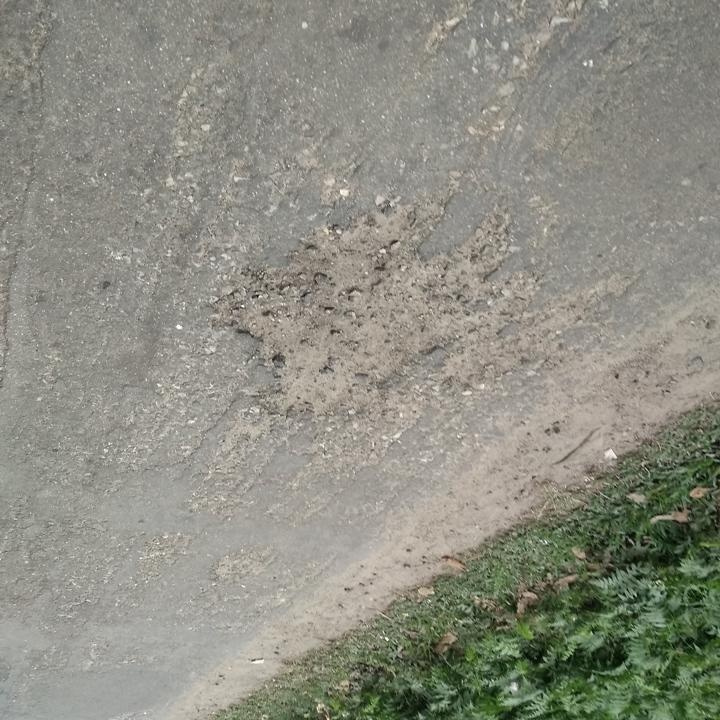pothole: (223, 213, 476, 424)
